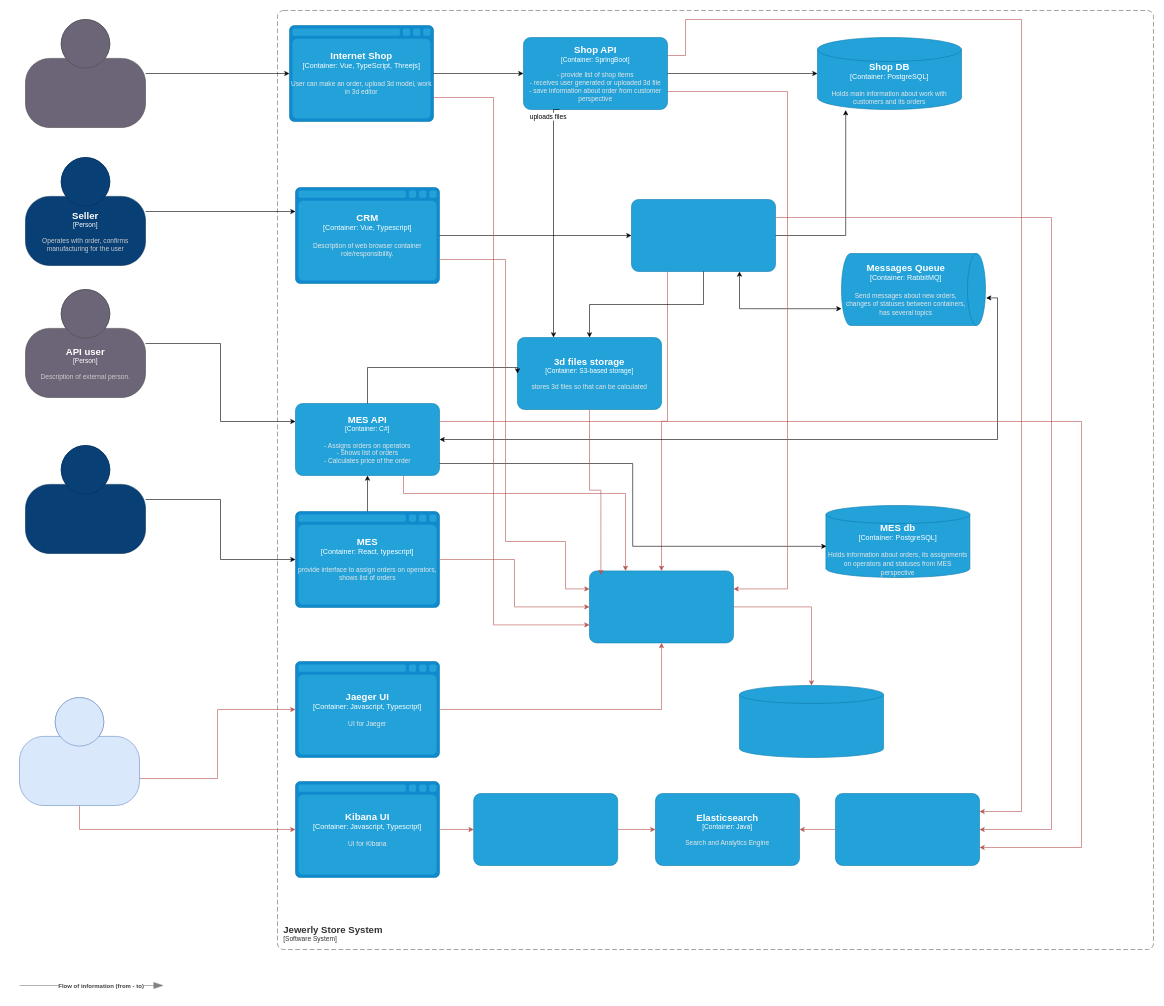
The diagram is 1164 pixels wide and 1006 high, and some of its shapes have lost their labels. The shapes that lost their labels are listed below. From the top down, each one's centre as x and y in pixels, then its label:
At (85,73): "Customer [Person] Description of external person.".
At (703,235): "CRM API [Container: SpringBoot] Description of container role/responsibility.".
At (85,499): "Operator [Person] Takes order in work, manufactures jewerly".
At (661,606): "Jaeger [Container: tracing]".
At (811,721): "Jaeger DB [Container: Cassandra] Holds information about tracing".
At (79,751): "Software developer [Person] Creates software".
At (545,829): "Kibana [Container: Node.js / TypeScript] UI and Visualization".
At (907,829): "Logstash [Container: Java] Log Pipeline".
